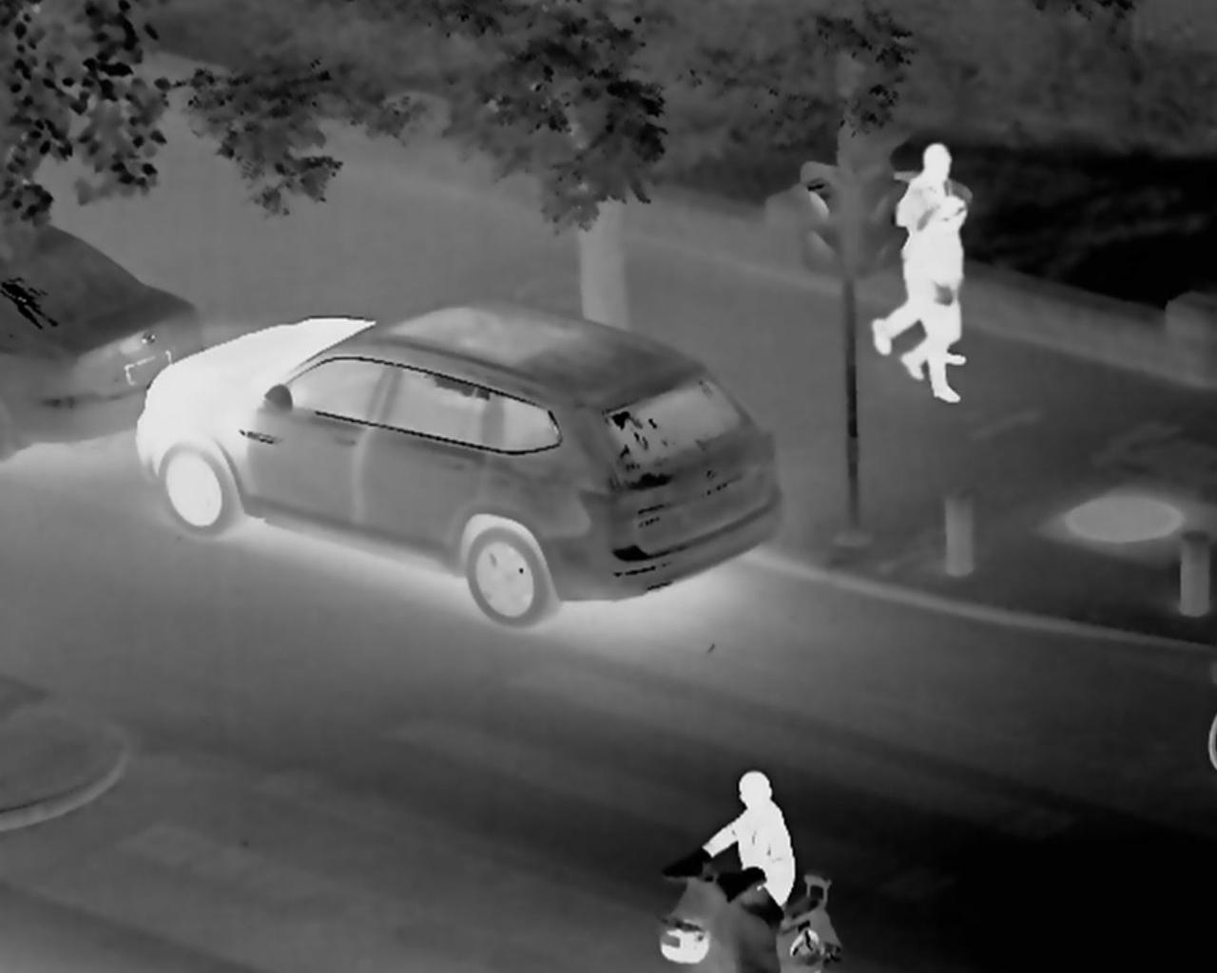person: (897, 137, 970, 408), (713, 755, 818, 925)
